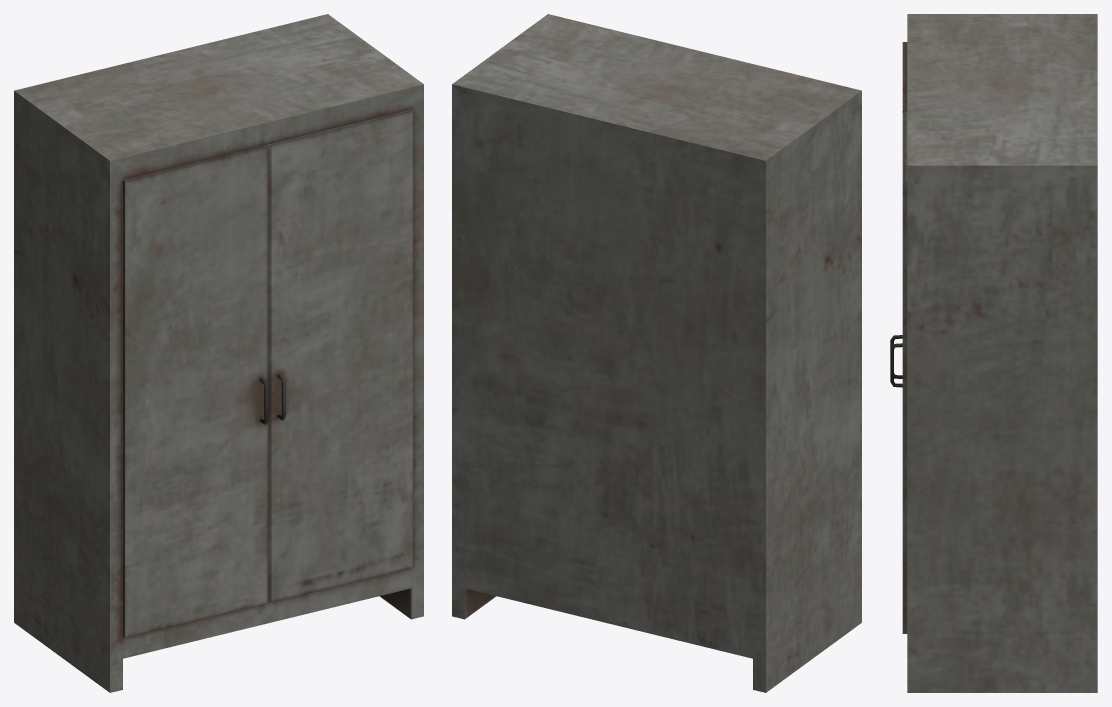
Rendered from MetalStorage.FBX.
3 renders of one model, left to right at view 1: azimuth 30°, elevation 25°; view 2: azimuth 150°, elevation 25°; view 3: azimuth 270°, elevation 25°, orthographic.
Parts seen in each view (by area): view 1: MetalStorage; view 2: MetalStorage; view 3: MetalStorage.
Boxes of the visible parts, left/top/right/bottom form: MetalStorage: left=14, top=14, right=423, bottom=692; MetalStorage: left=452, top=14, right=861, bottom=692; MetalStorage: left=890, top=14, right=1097, bottom=692.
Size of the model in its own units: 126 by 205 by 72.93.
